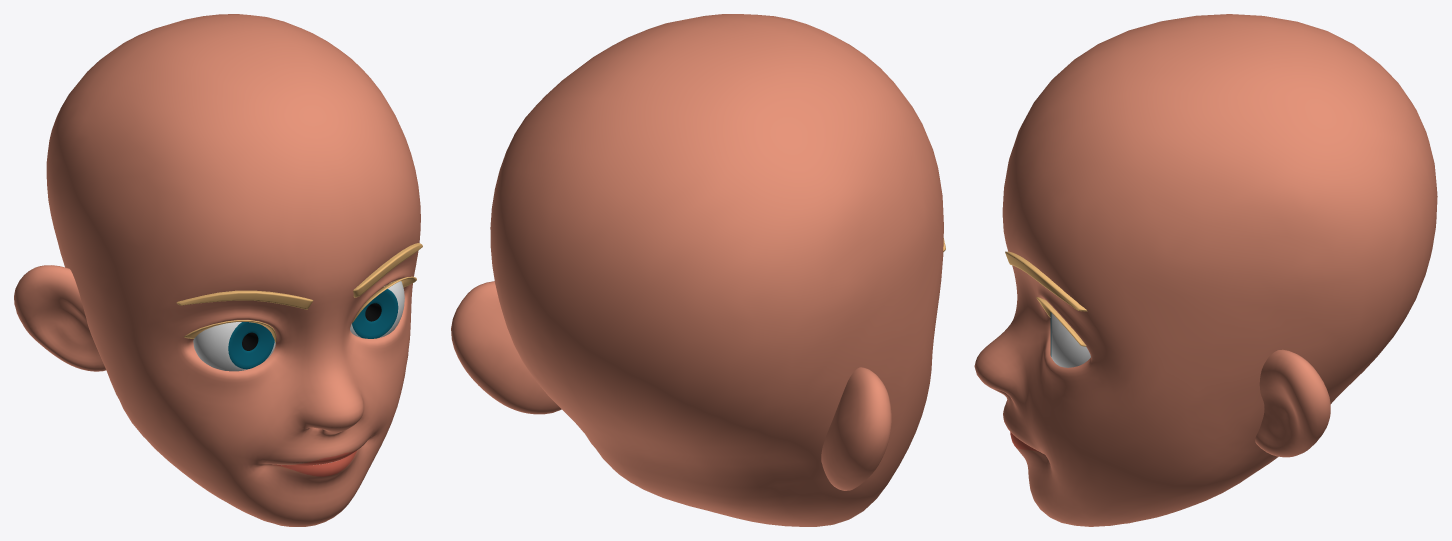
The picture shows the model from 3 angles, left to right: view 1: azimuth 30°, elevation 25°; view 2: azimuth 150°, elevation 25°; view 3: azimuth 270°, elevation 25°; orthographic projection. The views are drawn at different scales.
Visible parts, largest first — view 1: skin, ears, eyes.001, brows, eyes; view 2: skin, ears; view 3: skin, ears, brows, eyes.
Boxes of the visible parts, x1,y1,x2,y2 form: skin: (46, 14, 420, 526); ears: (14, 265, 105, 371); eyes.001: (193, 322, 275, 371); brows: (176, 243, 422, 342); eyes: (350, 281, 404, 338); skin: (490, 14, 943, 526); ears: (451, 281, 891, 490); skin: (974, 14, 1437, 526); ears: (1255, 349, 1330, 457); brows: (1005, 251, 1087, 346); eyes: (1050, 312, 1090, 367).
Size of the model in its own units: 1.74 by 2 by 1.76.
Materials: 15 (1 with a texture image).
